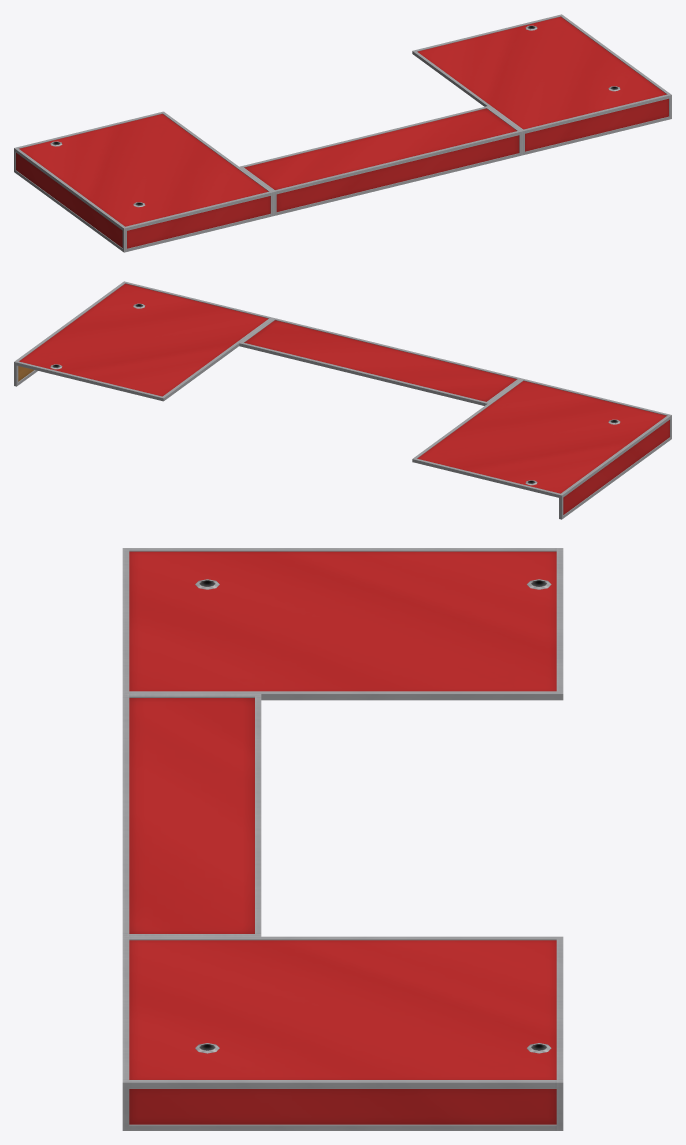
File: jsf_4P_s03_c06_t03_DX.fbx
3 renders of one model, top to bottom at view 1: azimuth 30°, elevation 25°; view 2: azimuth 150°, elevation 25°; view 3: azimuth 270°, elevation 25°, orthographic. The views are drawn at different scales.
Parts seen in each view (by area): view 1: jsf_4P_s03_c06_t03_DX; view 2: jsf_4P_s03_c06_t03_DX; view 3: jsf_4P_s03_c06_t03_DX.
Part boxes in pixels (<box>): jsf_4P_s03_c06_t03_DX: <box>14,14,671,252</box>; jsf_4P_s03_c06_t03_DX: <box>14,281,671,519</box>; jsf_4P_s03_c06_t03_DX: <box>122,548,563,1130</box>.
Size of the model in its own units: 298 by 12.99 by 104.
